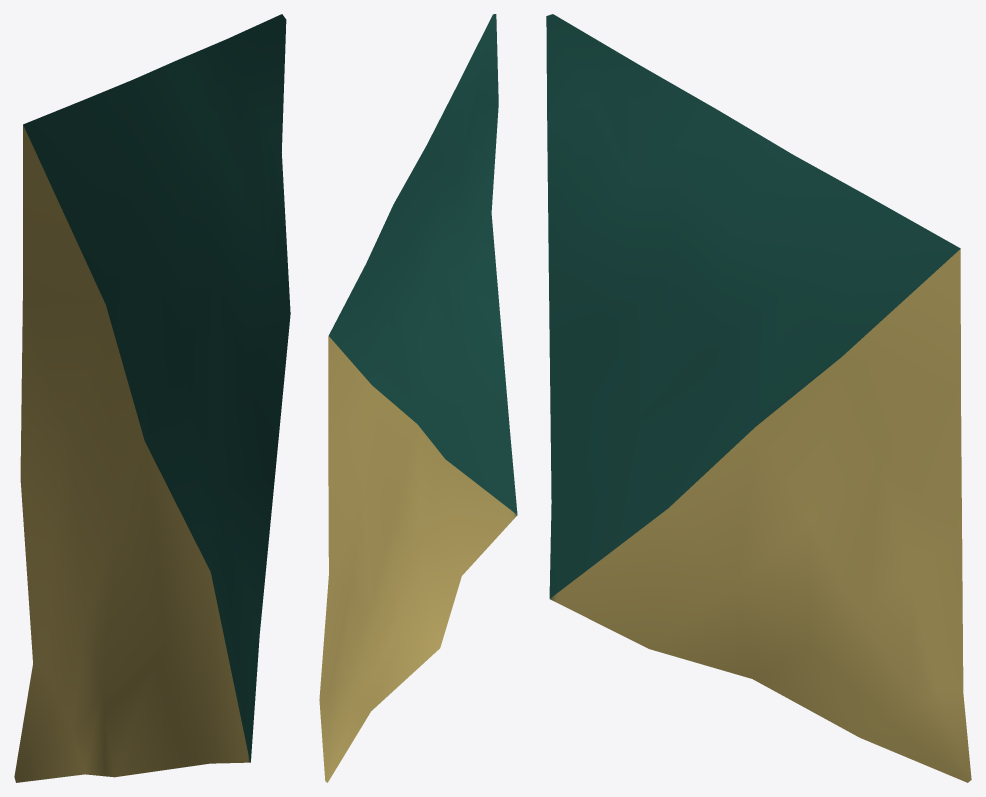
The model's file is Flag_02.fbx.
3 views of the same model, side by side, from view 1: azimuth 30°, elevation 25°; view 2: azimuth 150°, elevation 25°; view 3: azimuth 270°, elevation 25° (orthographic). The views are drawn at different scales.
Parts seen in each view (by area): view 1: Flag_02; view 2: Flag_02; view 3: Flag_02.
Boxes of the visible parts, left/top/right/bottom form: Flag_02: left=14, top=14, right=290, bottom=782; Flag_02: left=319, top=14, right=517, bottom=782; Flag_02: left=546, top=14, right=971, bottom=782.
Size of the model in its own units: 8.89 by 149 by 74.26.
1 material, 1 textured.
